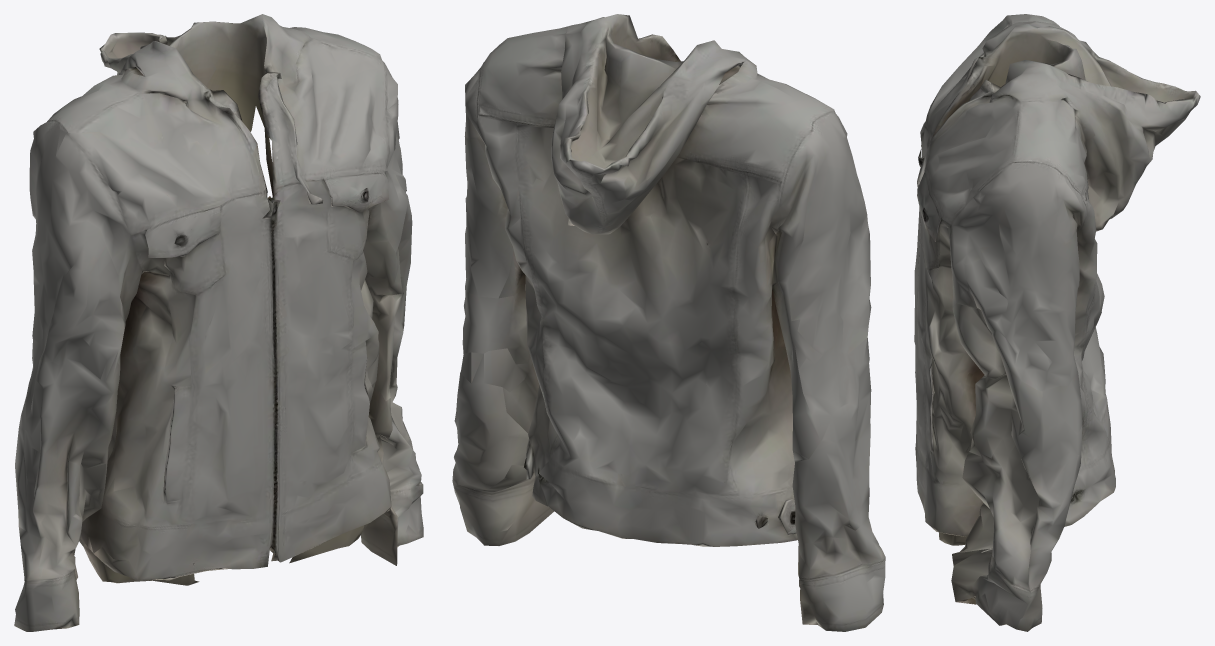
3 views of the same model, side by side, from view 1: azimuth 30°, elevation 25°; view 2: azimuth 150°, elevation 25°; view 3: azimuth 270°, elevation 25° (orthographic). The views are drawn at different scales.
Visible parts, largest first — view 1: tripo_node_4ff4c618-9553-46bd-989e-f265c46b2b77; view 2: tripo_node_4ff4c618-9553-46bd-989e-f265c46b2b77; view 3: tripo_node_4ff4c618-9553-46bd-989e-f265c46b2b77.
Boxes of the visible parts, x1=… form: tripo_node_4ff4c618-9553-46bd-989e-f265c46b2b77: x1=14, y1=14, x2=423, y2=631; tripo_node_4ff4c618-9553-46bd-989e-f265c46b2b77: x1=452, y1=14, x2=885, y2=631; tripo_node_4ff4c618-9553-46bd-989e-f265c46b2b77: x1=914, y1=14, x2=1200, y2=631.
Size of the model in its own units: 0.589 by 0.7502 by 0.3835.
1 material, 1 textured.
